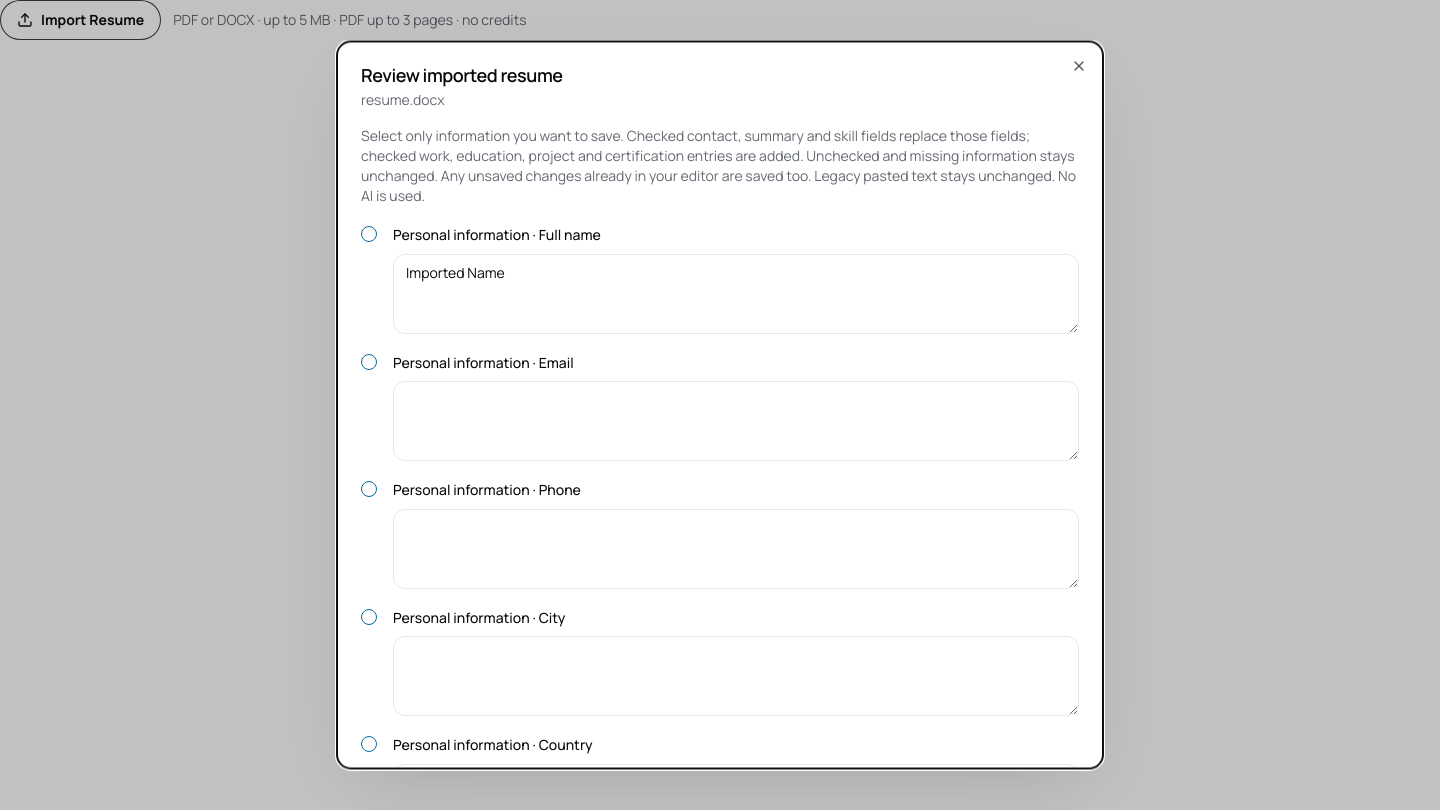
Test case: import review confirmation boundary › only explicit checked edited fields reach save
Earlier steps of the test are not shown.
Replace the text in the text box labelled "Personal information · Full name" with "Corrected Name". click: coordinates (736, 293)
box: 393,253 -> 1079,333
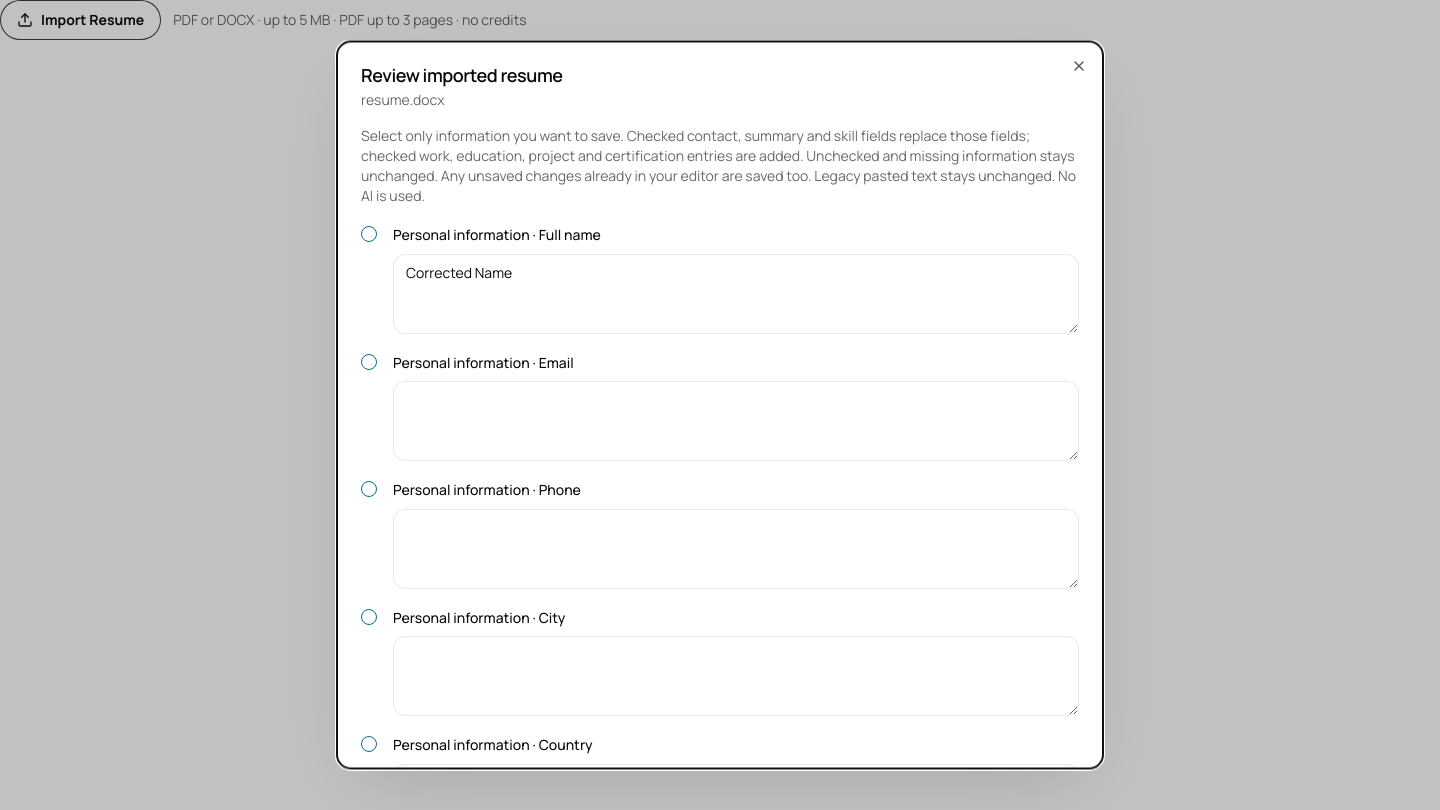
Click the checkbox named "Import Personal information · Full name". click: coordinates (369, 234)
box: 361,226 -> 377,242
(page scrolled)
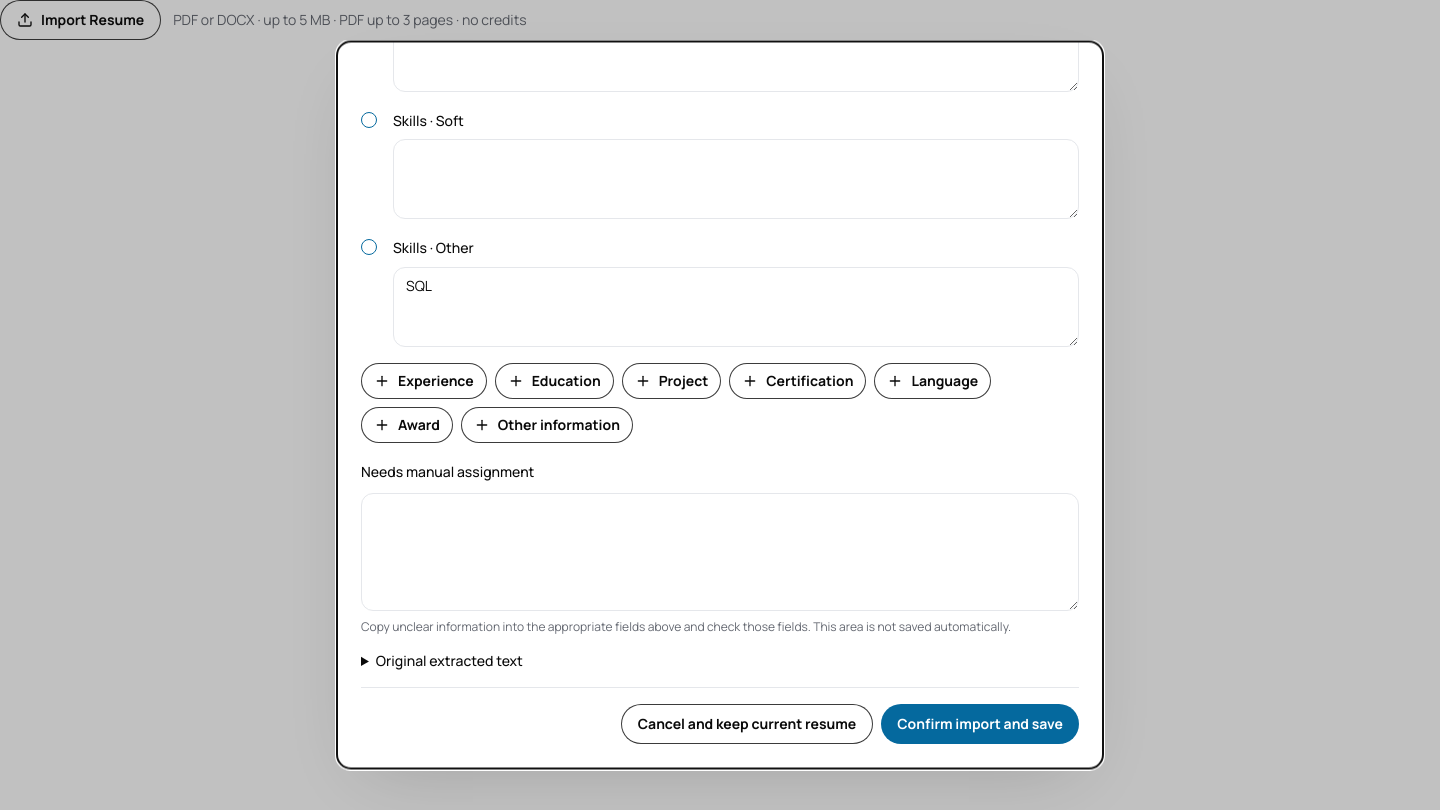
Click the button "Confirm import and save". click: coordinates (980, 724)
box: 881,704 -> 1079,744
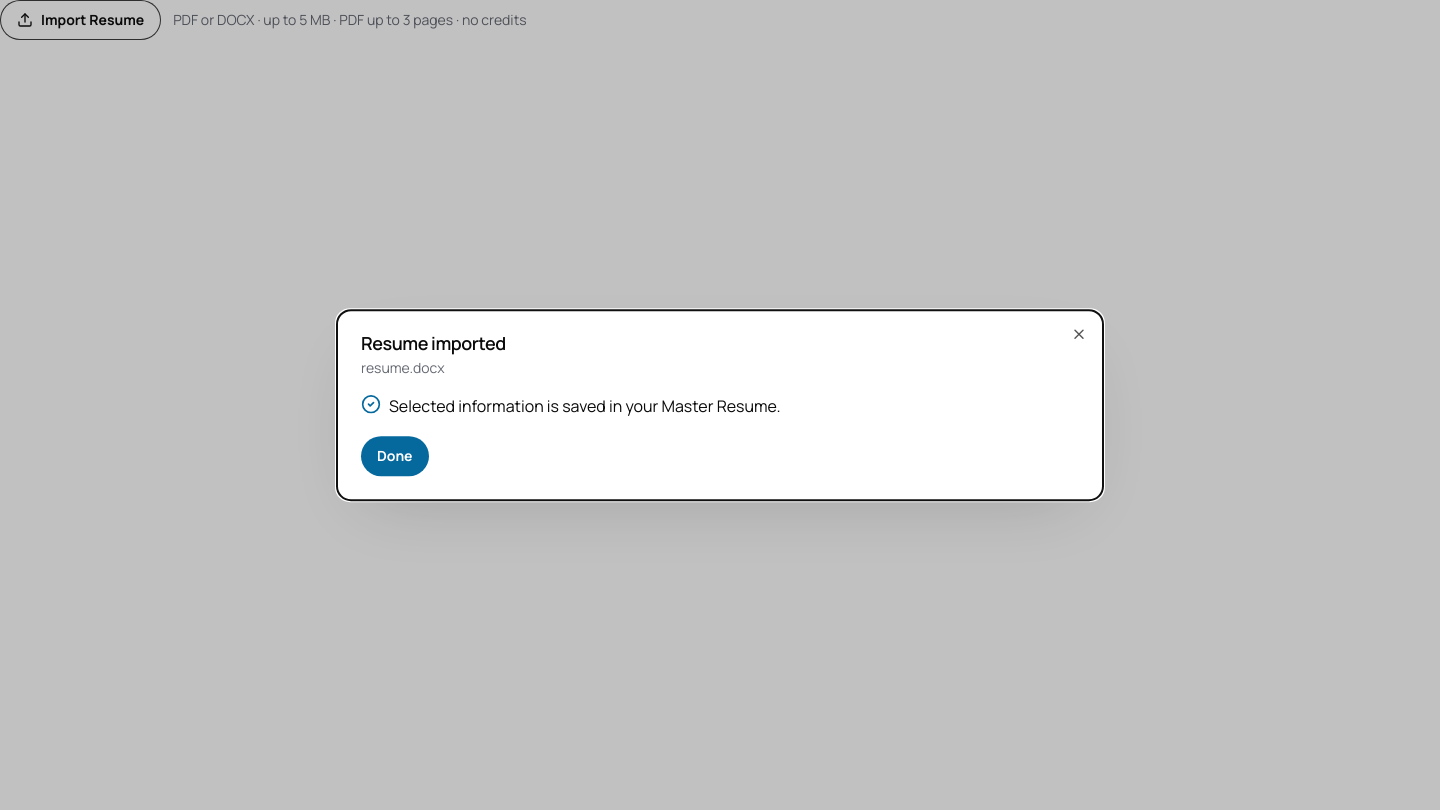
Check: the text "Selected information is saved in your Master Resume." is shown, box 361,394 -> 781,417
